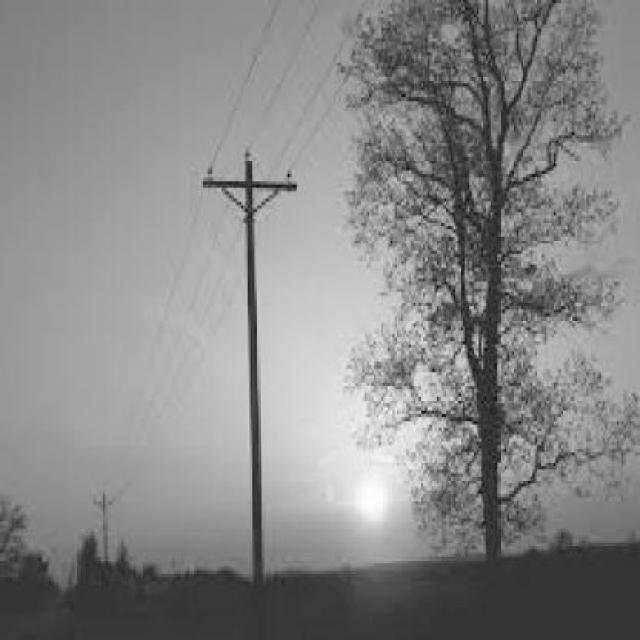crossarm: (206, 180, 295, 191), (94, 500, 113, 506)
pole: (246, 162, 264, 593), (102, 493, 109, 577)
wire: (263, 0, 372, 181), (289, 1, 396, 174), (209, 1, 281, 179)
